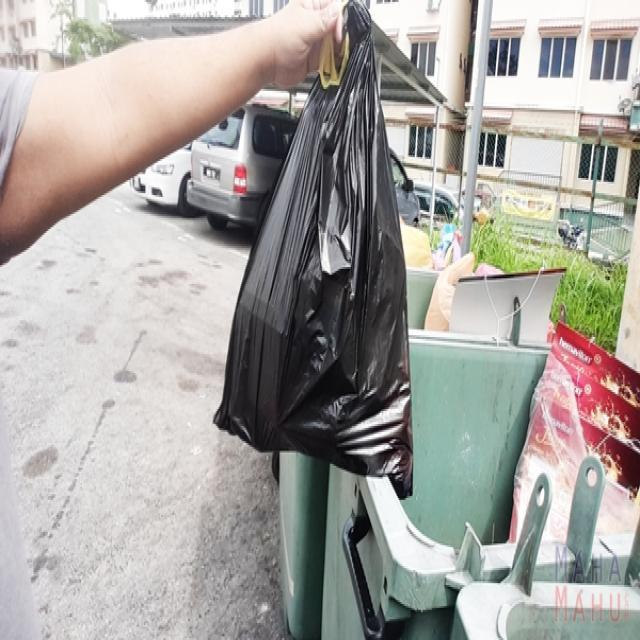Vinyl: (216, 2, 420, 506)
